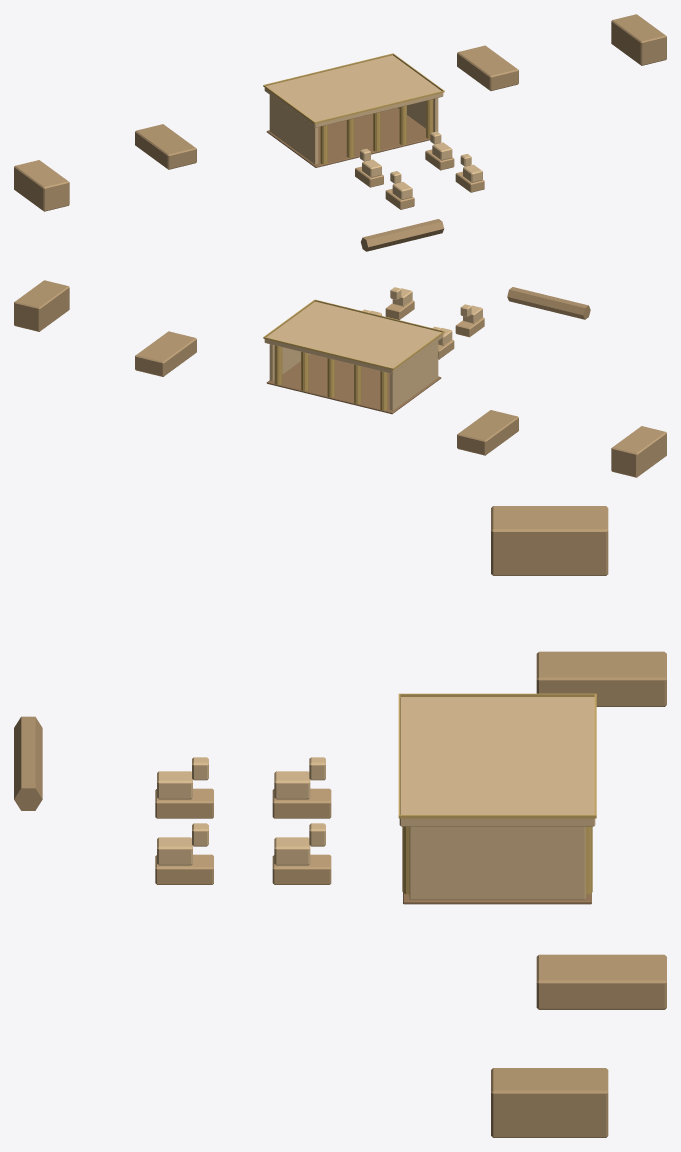
Rendered from 06_sun_plaza.glb.
3 renders of one model, top to bottom at view 1: azimuth 30°, elevation 25°; view 2: azimuth 150°, elevation 25°; view 3: azimuth 270°, elevation 25°, orthographic. The views are drawn at different scales.
Visible parts, largest first — view 1: plaza_pavilion, plaza_ruins, plaza_statues, plaza_columns, plaza_trim_nocol_noshadow; view 2: plaza_pavilion, plaza_ruins, plaza_statues, plaza_columns, plaza_trim_nocol_noshadow; view 3: plaza_pavilion, plaza_ruins, plaza_statues, plaza_trim_nocol_noshadow, plaza_columns.
Boxes of the visible parts, bbox=[...] form: plaza_pavilion: bbox=[264, 55, 443, 167]; plaza_ruins: bbox=[14, 14, 666, 251]; plaza_statues: bbox=[355, 131, 484, 209]; plaza_columns: bbox=[320, 99, 433, 164]; plaza_trim_nocol_noshadow: bbox=[263, 53, 444, 123]; plaza_pavilion: bbox=[264, 301, 443, 414]; plaza_ruins: bbox=[14, 280, 666, 477]; plaza_statues: bbox=[362, 287, 484, 359]; plaza_columns: bbox=[274, 345, 387, 410]; plaza_trim_nocol_noshadow: bbox=[263, 299, 444, 370]; plaza_pavilion: bbox=[399, 697, 595, 904]; plaza_ruins: bbox=[14, 506, 666, 1137]; plaza_statues: bbox=[155, 757, 331, 884]; plaza_trim_nocol_noshadow: bbox=[398, 693, 596, 818]; plaza_columns: bbox=[402, 826, 592, 894].
Bounding box in the file's own units: 213 × 15.4 × 100.
